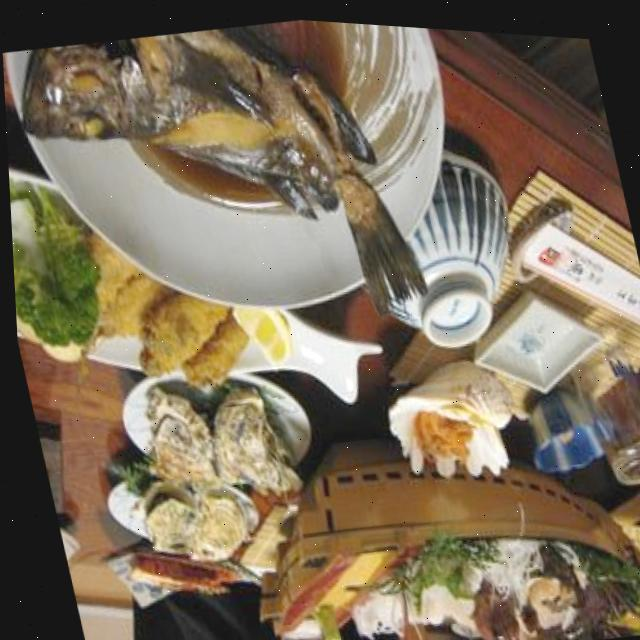熟制海鲜: (0, 0, 436, 290)
